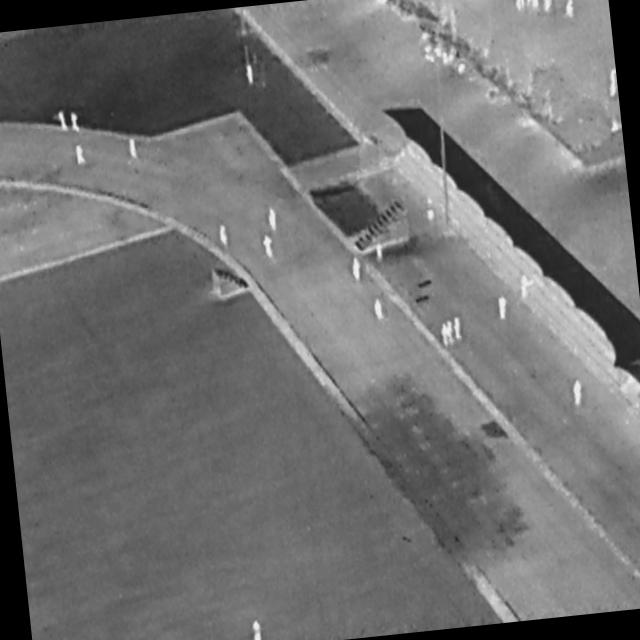person: (607, 65, 620, 102), (572, 380, 585, 408), (351, 256, 364, 283), (497, 294, 509, 321), (446, 320, 458, 347), (250, 619, 265, 640), (263, 234, 275, 259), (373, 297, 385, 322), (441, 323, 451, 349), (426, 197, 436, 223), (219, 224, 230, 247), (268, 208, 278, 233), (454, 316, 464, 341), (58, 111, 69, 133), (76, 145, 87, 166), (71, 112, 81, 135), (376, 240, 385, 261), (129, 138, 137, 160), (565, 1, 575, 18), (247, 64, 255, 85), (543, 1, 555, 13), (514, 1, 522, 11), (520, 1, 528, 10), (532, 1, 539, 11), (525, 1, 533, 8)
